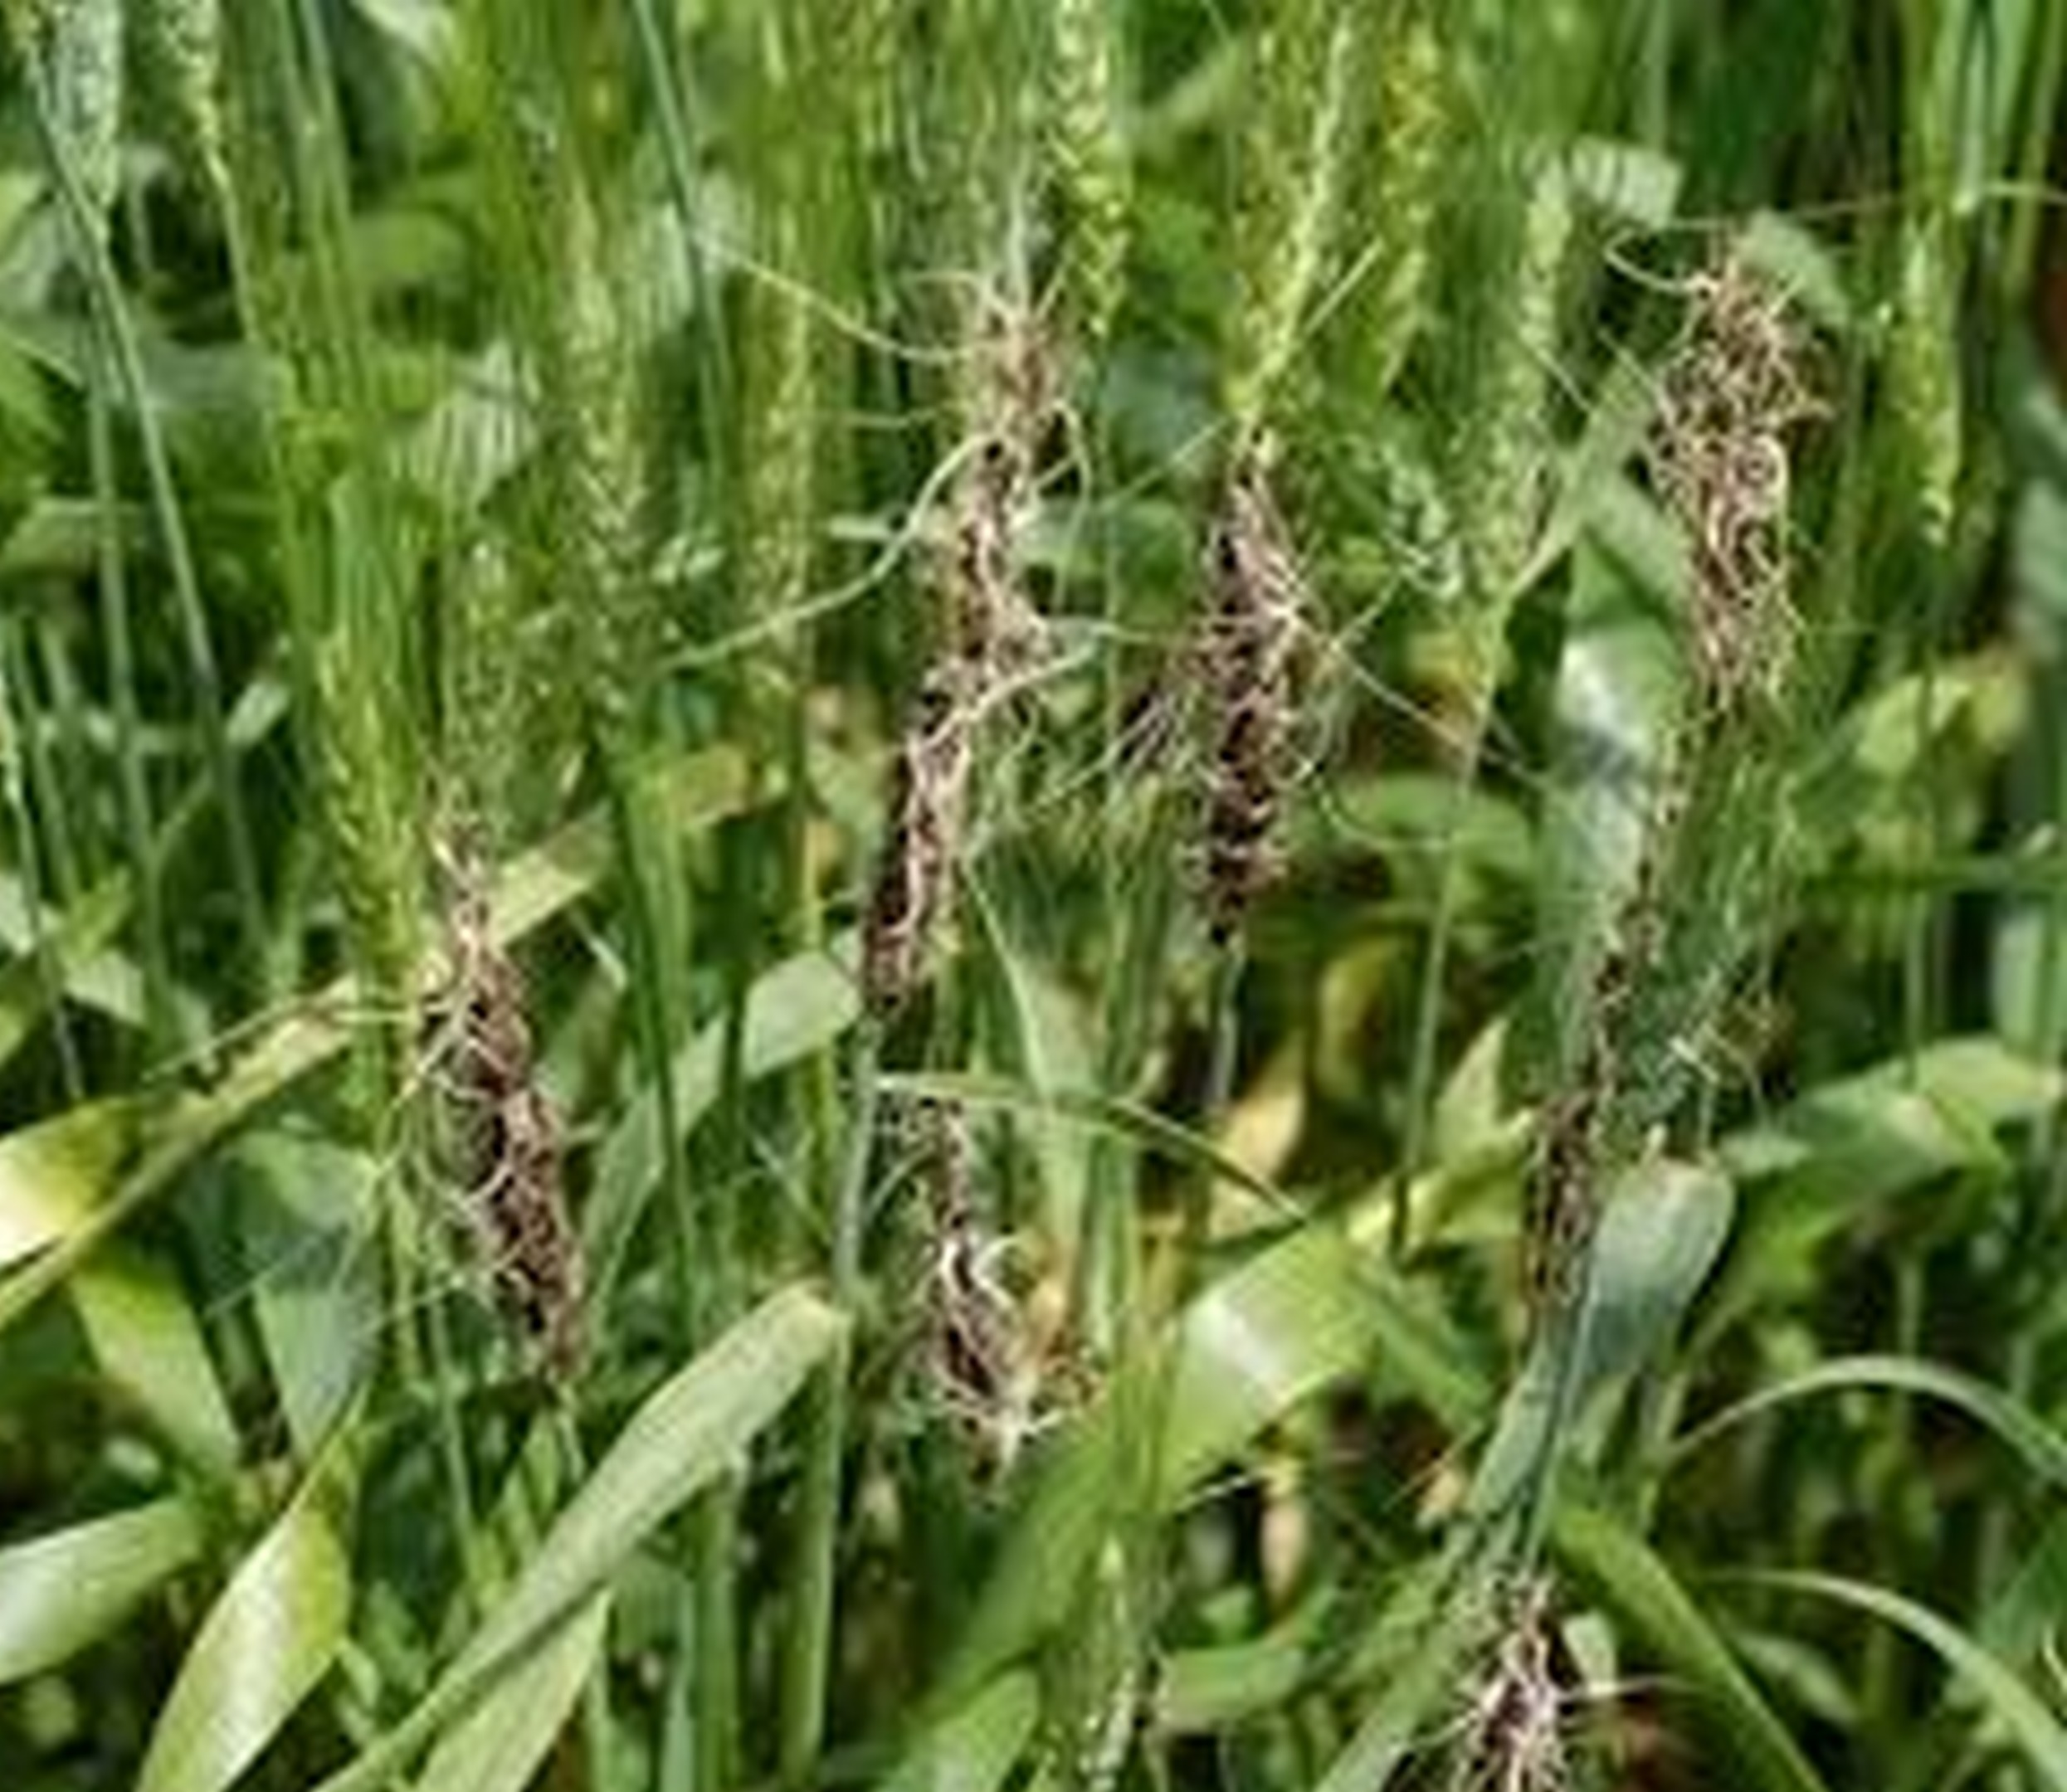Wheat Loose Smut: (852, 408, 1322, 1014)
